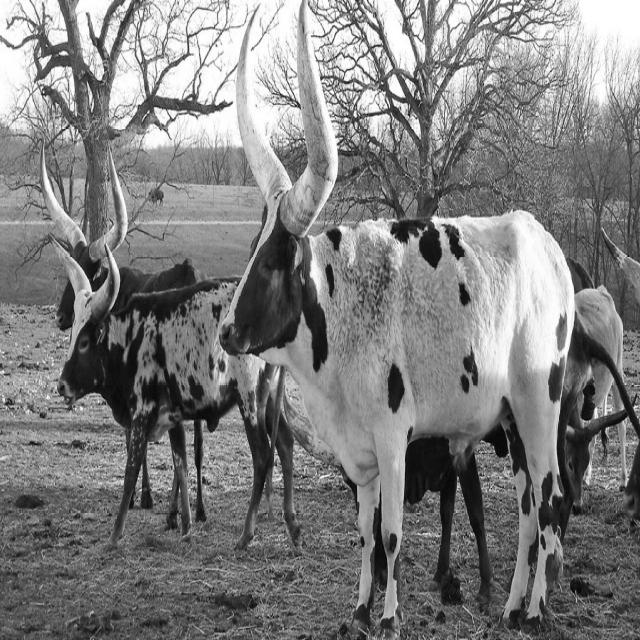Cow: (218, 0, 578, 637)
